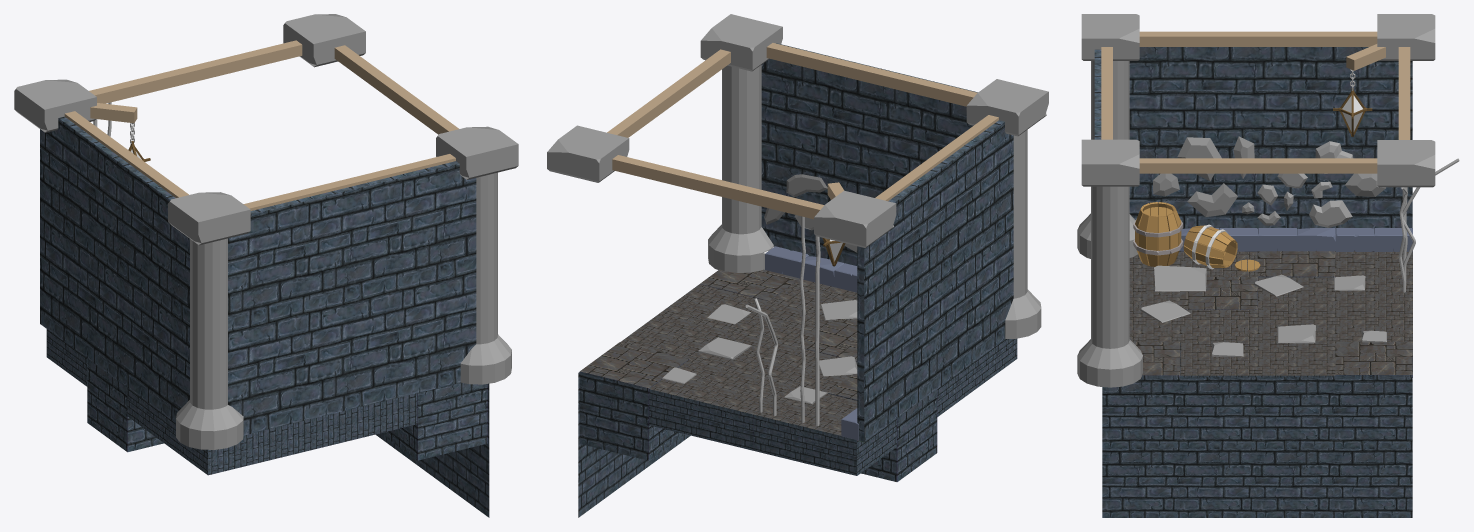
Rendered from 1起始牢房.fbx.
3 renders of one model, left to right at view 1: azimuth 30°, elevation 25°; view 2: azimuth 150°, elevation 25°; view 3: azimuth 270°, elevation 25°, orthographic. The views are drawn at different scales.
Parts seen in each view (by area): view 1: 墙2.025, 墙2, Cylinder.041, Cylinder.042, Cube.237, Cube.283, Cube.066, 牢房地面贴片, Cube.239, Cube.081, Cube.082, Cube.285 (+14 smaller); view 2: 墙2, 墙2.025, Cube.240, Cylinder.042, Cylinder.041, Cube.239, Cube.283, Cube.083, Cube.082, 牢房地面贴片, Cube.285, Cube.066 (+42 smaller); view 3: 牢房地面贴片, 墙2, Cylinder.042, Cube.284, Cube.084, Cube.081, Cube.285, Cube.240, Vert, Vert.002, Cube.066, Cube.082 (+51 smaller).
Boxes of the visible parts, bbox=[...] form: 墙2.025: bbox=[228, 161, 476, 435]; 墙2: bbox=[40, 116, 189, 422]; Cylinder.041: bbox=[176, 238, 243, 449]; Cylinder.042: bbox=[460, 172, 511, 384]; Cube.237: bbox=[381, 382, 487, 460]; Cube.283: bbox=[89, 40, 302, 103]; Cube.066: bbox=[168, 192, 250, 245]; 牢房地面贴片: bbox=[375, 383, 489, 517]; Cube.239: bbox=[87, 359, 163, 452]; Cube.081: bbox=[436, 126, 518, 179]; Cube.082: bbox=[14, 79, 96, 132]; Cube.285: bbox=[283, 14, 365, 67]; 墙2: bbox=[857, 120, 1013, 442]; 墙2.025: bbox=[761, 43, 977, 265]; Cube.240: bbox=[579, 342, 689, 460]; Cylinder.042: bbox=[708, 65, 773, 272]; Cylinder.041: bbox=[1005, 130, 1041, 338]; Cube.239: bbox=[828, 374, 937, 481]; Cube.283: bbox=[612, 155, 824, 219]; Cube.083: bbox=[766, 43, 977, 106]; Cube.082: bbox=[814, 190, 896, 248]; 牢房地面贴片: bbox=[578, 284, 699, 517]; Cube.285: bbox=[547, 125, 629, 182]; Cube.066: bbox=[966, 79, 1048, 136]; 牢房地面贴片: bbox=[1102, 377, 1412, 517]; 墙2: bbox=[1129, 47, 1412, 228]; Cylinder.042: bbox=[1077, 186, 1142, 387]; Cube.284: bbox=[1139, 158, 1377, 173]; Cube.084: bbox=[1139, 31, 1377, 46]; Cube.081: bbox=[1081, 139, 1139, 186]; Cube.285: bbox=[1377, 140, 1435, 187]; Cube.240: bbox=[1335, 342, 1412, 377]; Vert: bbox=[1153, 136, 1254, 216]; Vert.002: bbox=[1277, 141, 1385, 227]; Cube.066: bbox=[1081, 14, 1139, 60]; Cube.082: bbox=[1377, 14, 1435, 60].
Size of the model in its own units: 937 by 1032 by 986.
